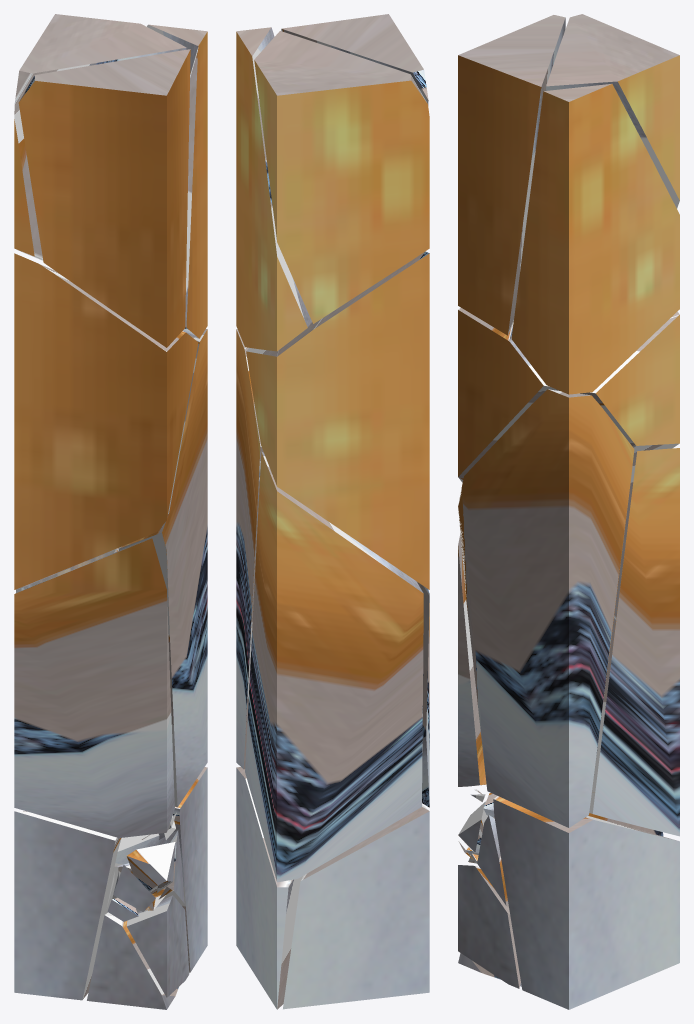
The model's file is cigarette_butt_fracture.fbx.
3 renders of one model, left to right at view 1: azimuth 30°, elevation 25°; view 2: azimuth 150°, elevation 25°; view 3: azimuth 270°, elevation 25°, orthographic.
Parts seen in each view (by area): view 1: CigaretteButt_cell.006, CigaretteButt_cell.008, CigaretteButt_cell.002, CigaretteButt_cell.001, CigaretteButt_cell.011, CigaretteButt_cell.004, CigaretteButt_cell.009, CigaretteButt_cell.003_cell.006, CigaretteButt_cell.010, CigaretteButt_cell.003_cell, CigaretteButt_cell.003_cell.001_cell, CigaretteButt_cell.003_cell.001_cell.005 (+3 smaller); view 2: CigaretteButt_cell.007, CigaretteButt_cell.006, CigaretteButt_cell.004, CigaretteButt_cell.001, CigaretteButt_cell.009, CigaretteButt_cell.010, CigaretteButt_cell.011, CigaretteButt_cell.002, CigaretteButt_cell.008; view 3: CigaretteButt_cell.011, CigaretteButt_cell.009, CigaretteButt_cell.010, CigaretteButt_cell.007, CigaretteButt_cell.002, CigaretteButt_cell.006, CigaretteButt_cell.004, CigaretteButt_cell.003_cell, CigaretteButt_cell.008, CigaretteButt_cell.003_cell.002, CigaretteButt_cell.003_cell.001_cell.
Boxes of the visible parts, x1,y1,x2,y2 form: CigaretteButt_cell.006: [14, 253, 198, 589]; CigaretteButt_cell.008: [14, 538, 174, 837]; CigaretteButt_cell.002: [18, 49, 190, 347]; CigaretteButt_cell.001: [14, 811, 121, 1000]; CigaretteButt_cell.011: [118, 329, 207, 807]; CigaretteButt_cell.004: [14, 14, 186, 260]; CigaretteButt_cell.009: [147, 24, 207, 338]; CigaretteButt_cell.003_cell.006: [87, 912, 178, 1009]; CigaretteButt_cell.010: [159, 767, 207, 972]; CigaretteButt_cell.003_cell: [126, 895, 189, 997]; CigaretteButt_cell.003_cell.001_cell: [127, 842, 175, 893]; CigaretteButt_cell.003_cell.001_cell.005: [113, 865, 155, 911]; CigaretteButt_cell.007: [245, 451, 423, 882]; CigaretteButt_cell.006: [246, 251, 429, 589]; CigaretteButt_cell.004: [254, 31, 429, 323]; CigaretteButt_cell.001: [283, 804, 429, 1009]; CigaretteButt_cell.009: [236, 27, 311, 351]; CigaretteButt_cell.010: [236, 767, 303, 1009]; CigaretteButt_cell.011: [236, 329, 263, 769]; CigaretteButt_cell.002: [281, 14, 428, 105]; CigaretteButt_cell.008: [417, 582, 429, 807]; CigaretteButt_cell.011: [458, 389, 634, 827]; CigaretteButt_cell.009: [511, 84, 679, 394]; CigaretteButt_cell.010: [493, 796, 679, 1009]; CigaretteButt_cell.007: [589, 448, 679, 836]; CigaretteButt_cell.002: [458, 15, 565, 335]; CigaretteButt_cell.006: [458, 307, 679, 482]; CigaretteButt_cell.004: [546, 14, 679, 208]; CigaretteButt_cell.003_cell: [458, 865, 520, 988]; CigaretteButt_cell.008: [458, 534, 486, 786]; CigaretteButt_cell.003_cell.002: [477, 815, 508, 907]; CigaretteButt_cell.003_cell.001_cell: [458, 801, 487, 853].
Bounding box in the file's own units: 10.47 × 47.29 × 10.47.
Materials: 1 (1 with a texture image).
